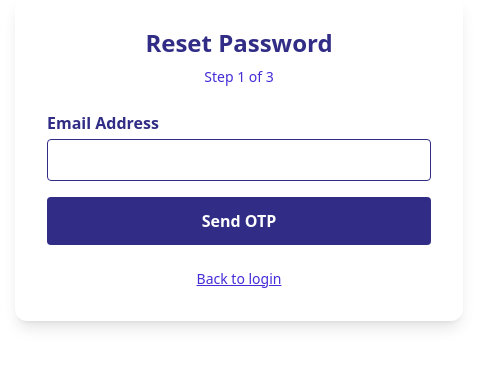
password fields in the app › reset password: the new-password field has a working toggle
The width and height of the screenshot is (479, 365).
Type "a@example.com" into the field labelled "Email Address".
click(239, 160); type("a@example.com")  # box [47,139,431,181]
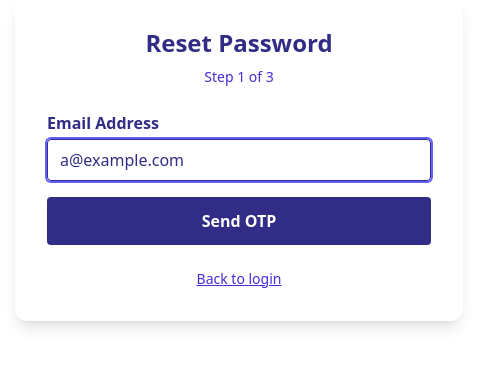
Click the button "Send OTP".
click(239, 221)  # box [47,197,431,245]
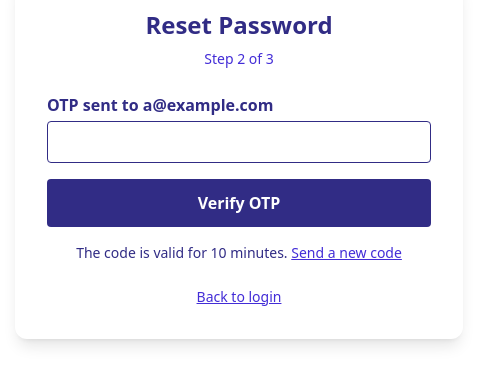
Type "123456" into the field labelled "OTP sent to a@example.com".
click(239, 142); type("123456")  # box [47,121,431,163]
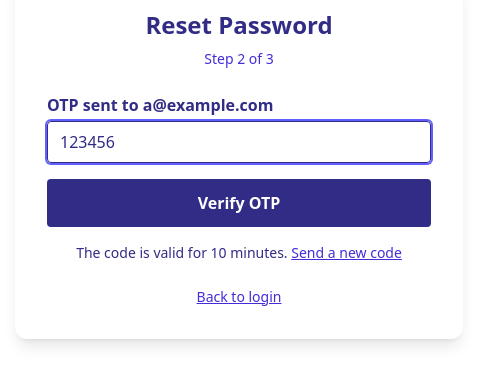
Click the button "Verify OTP".
click(239, 203)  # box [47,179,431,227]
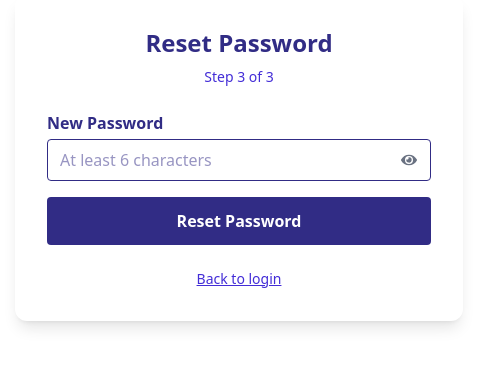
Type "brand-new-pass" into the password field labelled "New Password".
click(239, 160); type("brand-new-pass")  # box [47,139,431,181]
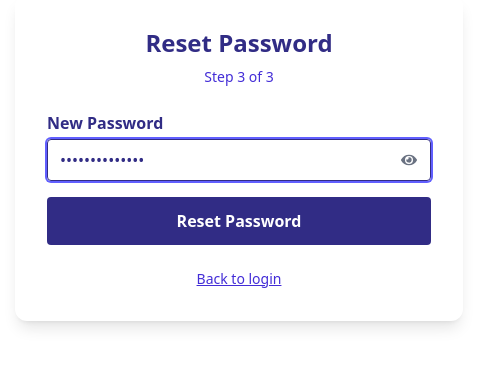
Click the button named "Show password".
click(409, 160)  # box [387,139,431,181]
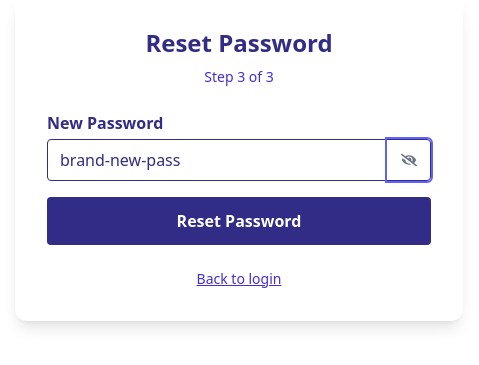
Check: the field labelled "New Password" shows its text, box [47,139,431,181]
